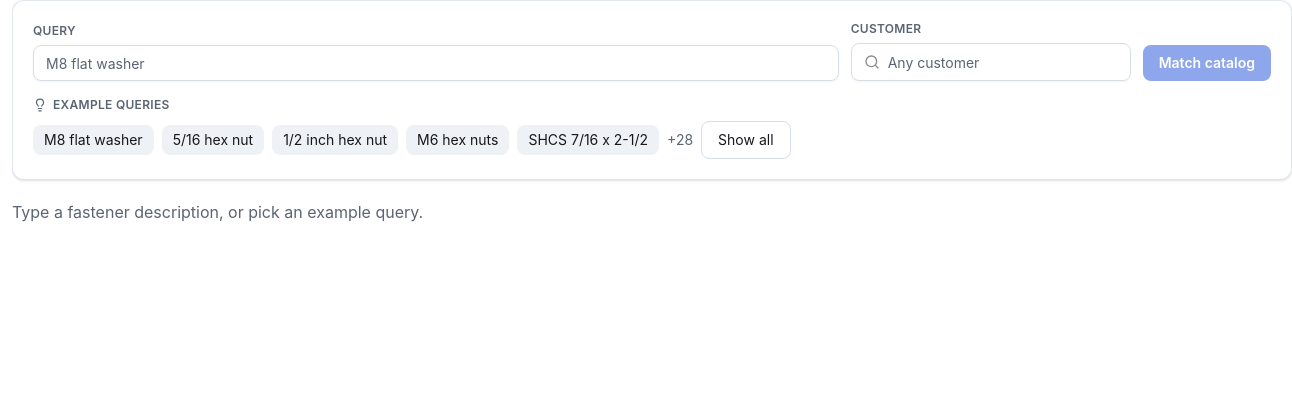
Scenario: ResultsPanel › keeps the note out of the list once the status line has said it
The image size is (1292, 404).
Type "M8 x 45mm SHCS" into the field labelled "Query". click: (436, 63)
box: [33,45,839,81]
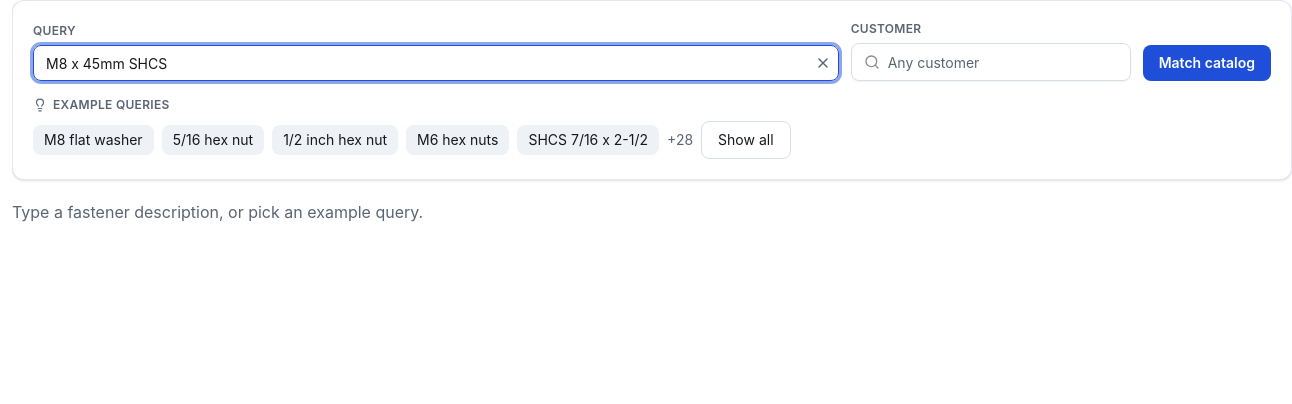
Click the button "Match catalog". click: (1207, 63)
box: [1143,45,1271,81]
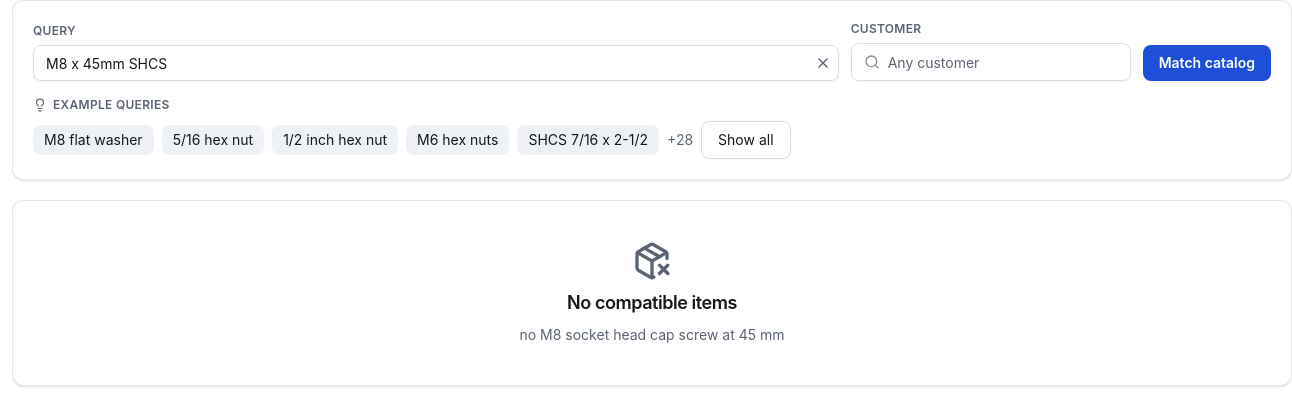
Expected: the text "no M8 socket head cap screw at 45 mm" is shown once, [520,325,785,345]
Result: the text "no M8 socket head cap screw at 45 mm" is shown at [520,325,785,345]
